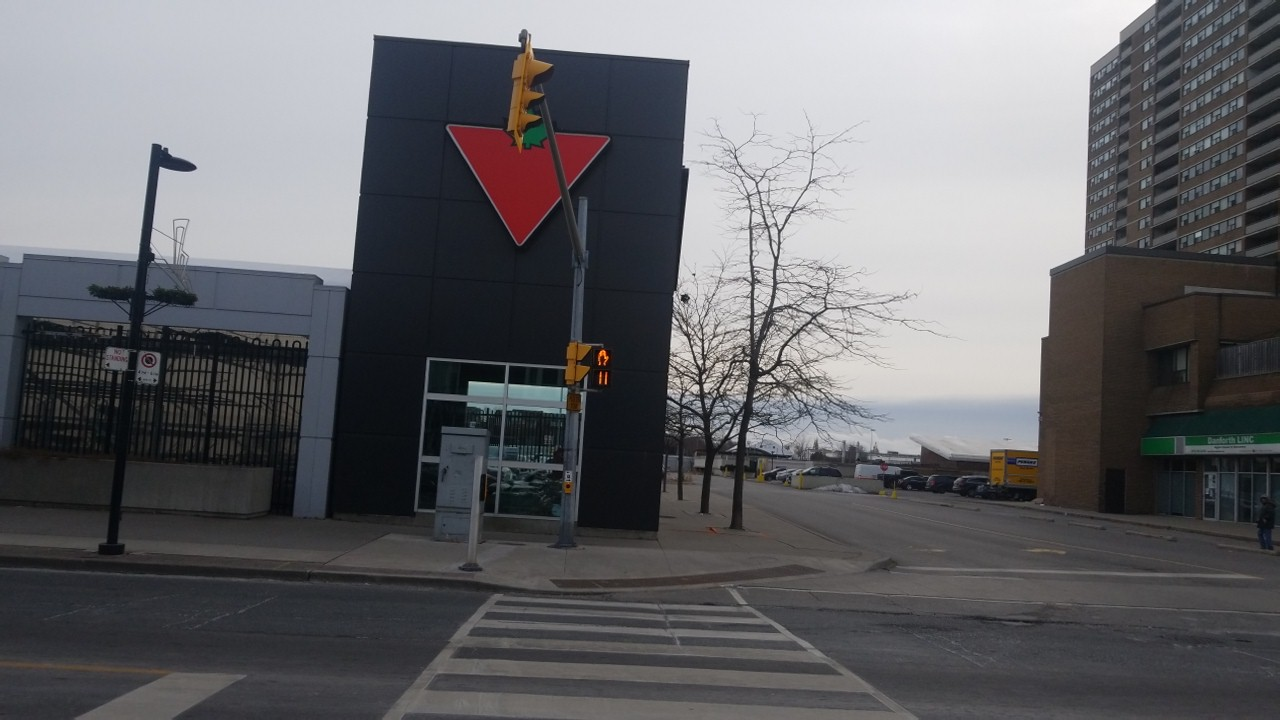light: (590, 345, 612, 390)
